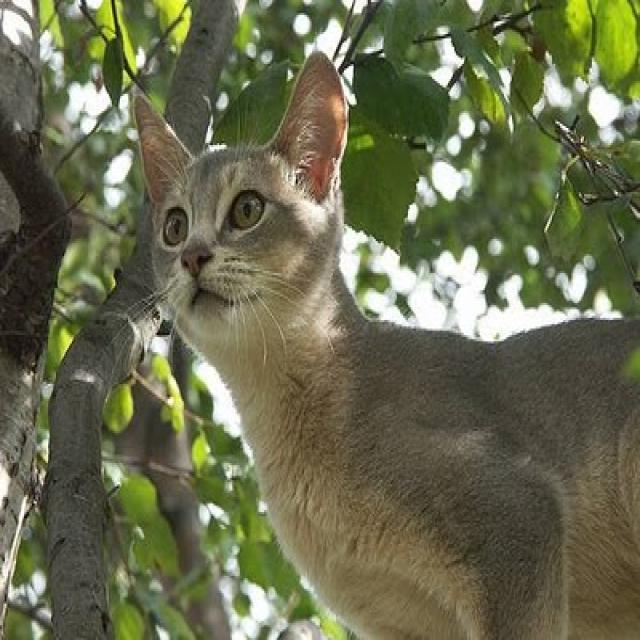Abyssinian: (127, 72, 351, 344)
